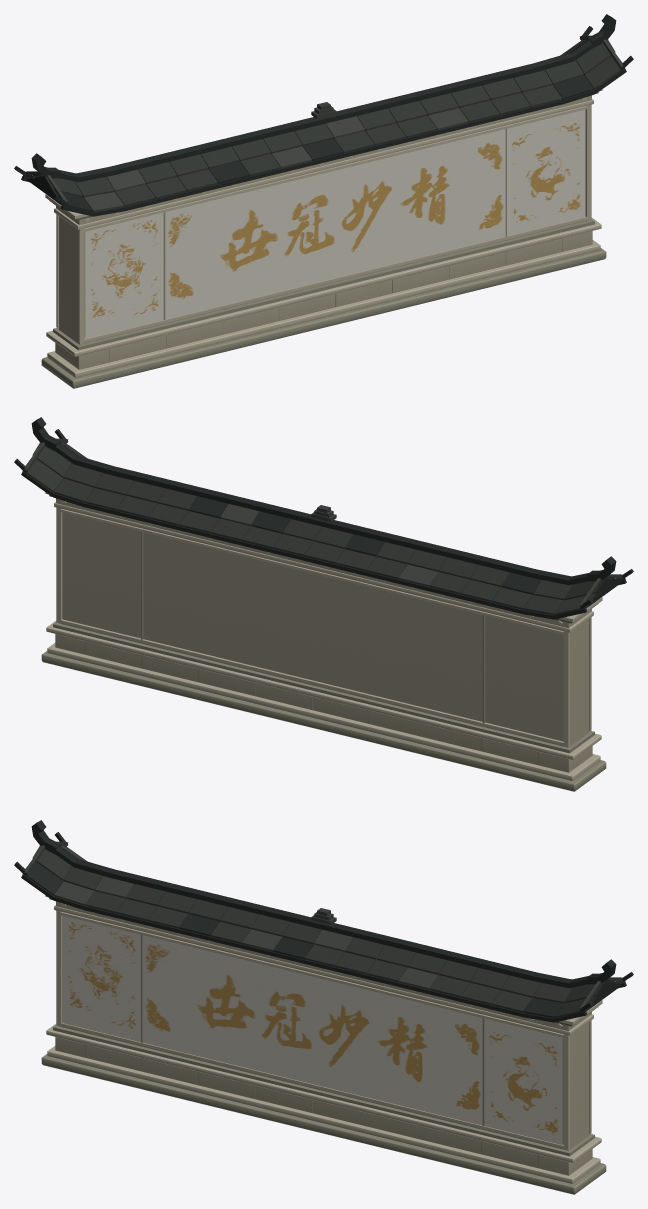
The model's file is daci_screen_wall.glb.
The picture shows the model from 3 angles, top to bottom: view 1: azimuth 30°, elevation 25°; view 2: azimuth 150°, elevation 25°; view 3: azimuth 330°, elevation 25°; orthographic projection.
Visible parts, largest first — view 1: Wall_LetteringAndDragons, Wall_SteppedStoneBase, Roof_PaperTiles, Roof_RidgeAndFinials, Wall_Borders, Wall_Coping, Wall_Core, Roof_EaveBands, Roof_EndCheeks; view 2: Wall_Core, Wall_SteppedStoneBase, Roof_PaperTiles, Wall_Borders, Roof_RidgeAndFinials, Wall_Coping, Roof_EaveBands, Roof_EndCheeks; view 3: Wall_LetteringAndDragons, Wall_SteppedStoneBase, Roof_PaperTiles, Roof_RidgeAndFinials, Wall_Borders, Wall_Coping, Wall_Core, Roof_EaveBands, Roof_EndCheeks.
Part boxes in pixels (x1,y1,x2,y2): Wall_LetteringAndDragons: [85, 109, 585, 338]; Wall_SteppedStoneBase: [41, 217, 606, 388]; Roof_PaperTiles: [23, 39, 622, 211]; Roof_RidgeAndFinials: [31, 14, 616, 182]; Wall_Borders: [56, 104, 591, 344]; Wall_Coping: [45, 89, 602, 229]; Wall_Core: [59, 110, 588, 344]; Roof_EaveBands: [21, 68, 626, 216]; Roof_EndCheeks: [25, 35, 623, 205]; Wall_Core: [59, 512, 588, 747]; Wall_SteppedStoneBase: [41, 620, 606, 791]; Roof_PaperTiles: [22, 442, 625, 614]; Wall_Borders: [56, 507, 591, 747]; Roof_RidgeAndFinials: [31, 417, 616, 585]; Wall_Coping: [45, 492, 602, 632]; Roof_EaveBands: [21, 471, 626, 619]; Roof_EndCheeks: [24, 438, 622, 608]; Wall_LetteringAndDragons: [62, 915, 562, 1144]; Wall_SteppedStoneBase: [41, 1023, 606, 1194]; Roof_PaperTiles: [22, 845, 625, 1017]; Roof_RidgeAndFinials: [31, 820, 616, 988]; Wall_Borders: [56, 910, 591, 1150]; Wall_Coping: [45, 895, 602, 1035]; Wall_Core: [59, 916, 588, 1150]; Roof_EaveBands: [21, 874, 626, 1022]; Roof_EndCheeks: [24, 841, 622, 1011].
Bounding box in the file's own units: 14.08 × 5.28 × 1.8.
8 materials, 8 textured.
